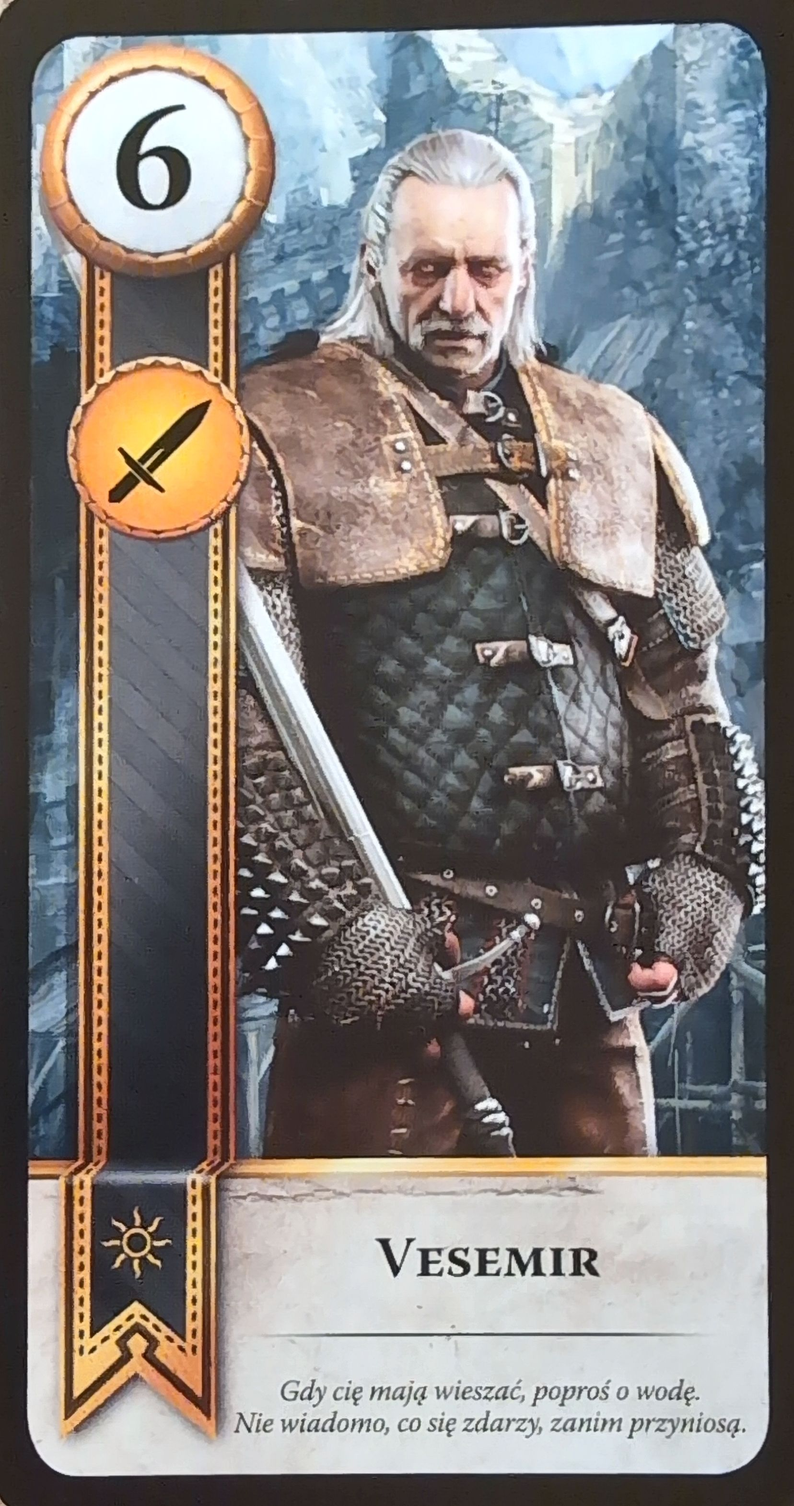6: (39, 44, 278, 278)
miecz: (63, 358, 253, 541)
